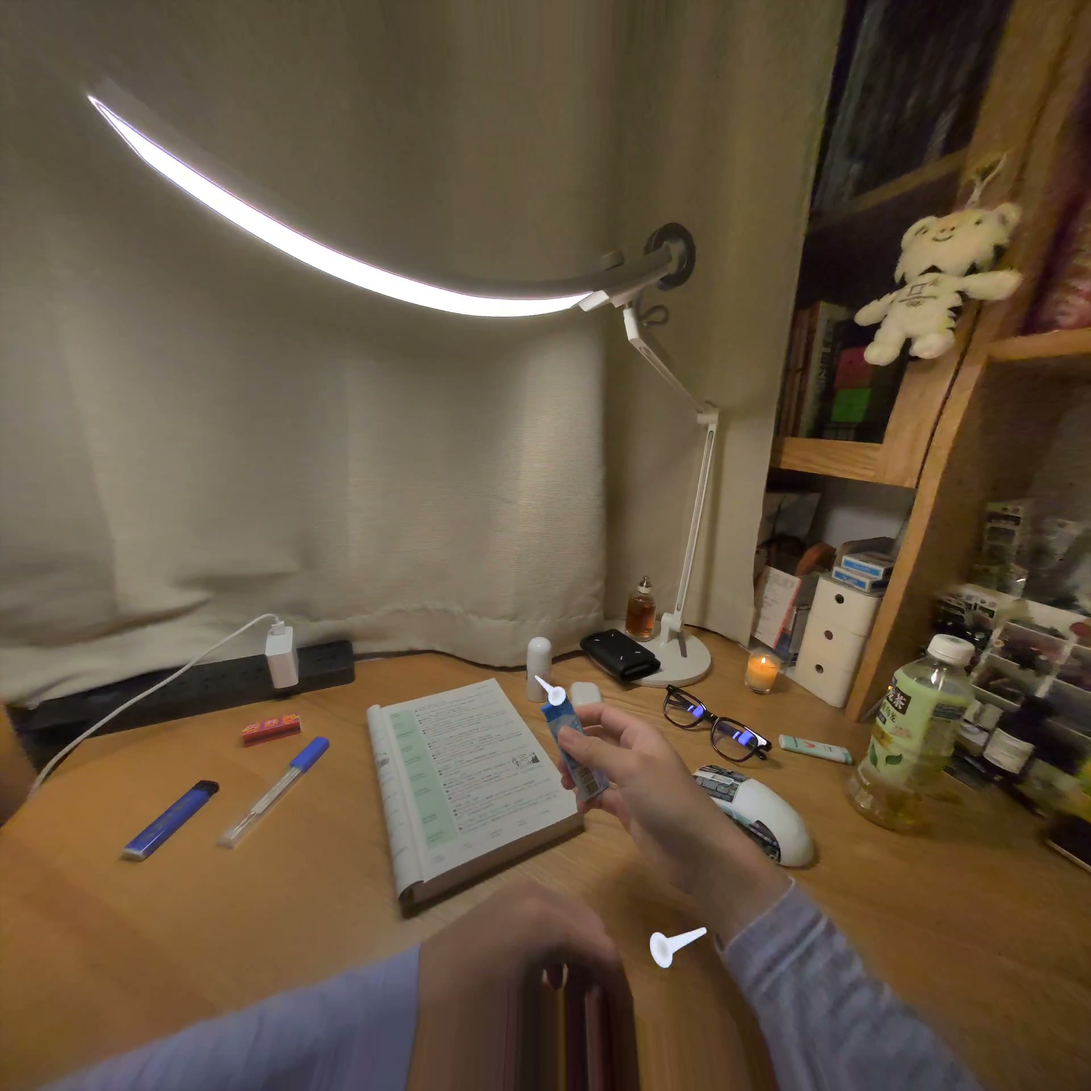lighter: (541, 697, 582, 746)
